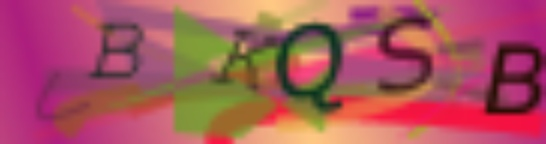B: (481, 41, 546, 117), (87, 19, 151, 82)
K: (210, 26, 279, 93)
Q: (269, 18, 345, 116)
S: (373, 14, 435, 96)
